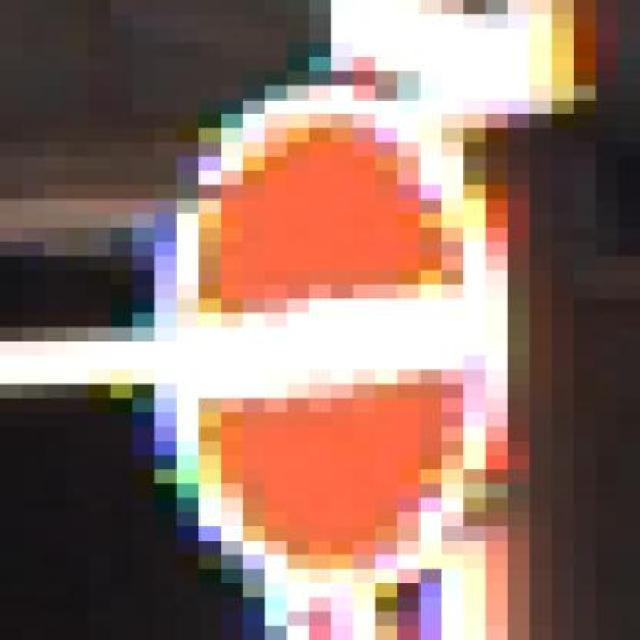No Entry: (89, 86, 552, 612)
